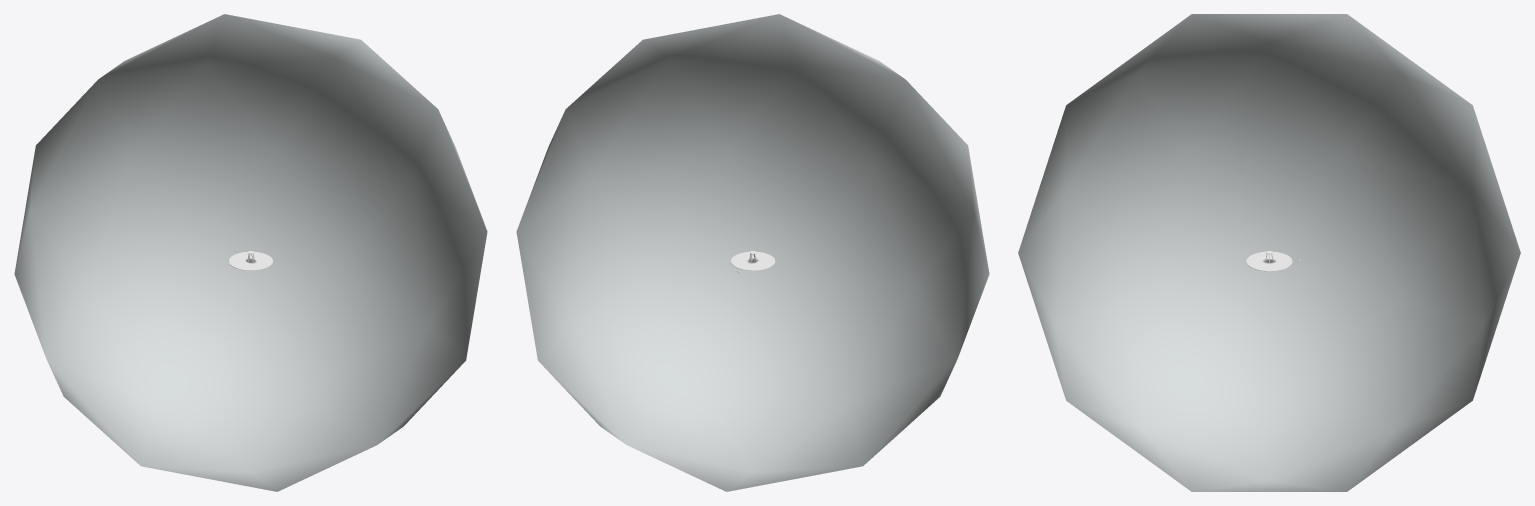
The model's file is plv_drapeau.gltf.
3 renders of one model, left to right at view 1: azimuth 30°, elevation 25°; view 2: azimuth 150°, elevation 25°; view 3: azimuth 270°, elevation 25°, orthographic. The views are drawn at different scales.
Visible parts, largest first — view 1: Icosphere, Floor_concrete; view 2: Icosphere, Floor_concrete; view 3: Icosphere, Floor_concrete.
Boxes of the visible parts, x1,y1,x2,y2 form: Icosphere: (14,14,487,491); Floor_concrete: (228,252,272,270); Icosphere: (516,14,989,491); Floor_concrete: (731,251,775,270); Icosphere: (1018,14,1520,491); Floor_concrete: (1246,251,1292,271).
Bounding box in the file's own units: 34.92 × 36.72 × 36.72.
7 materials, 1 textured.
